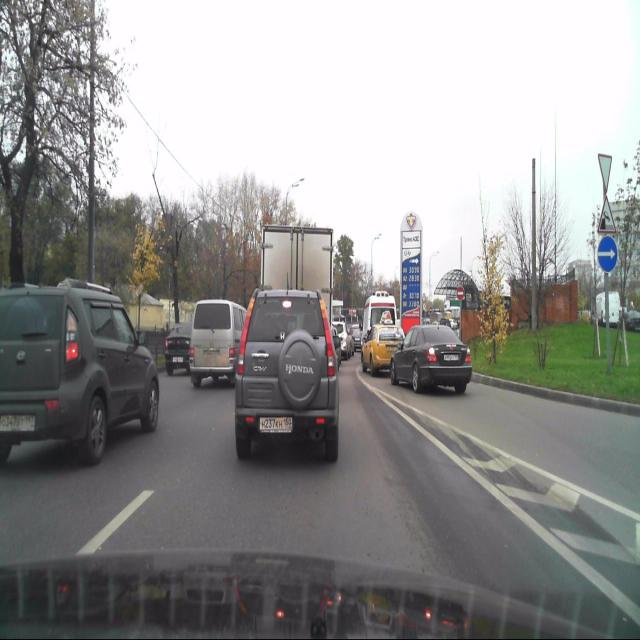road sign: (596, 197, 617, 234), (598, 152, 612, 194)
